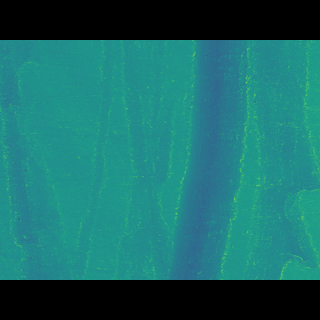Loch: (123, 69, 252, 250), (243, 70, 320, 249), (0, 82, 65, 249), (70, 71, 115, 248)
